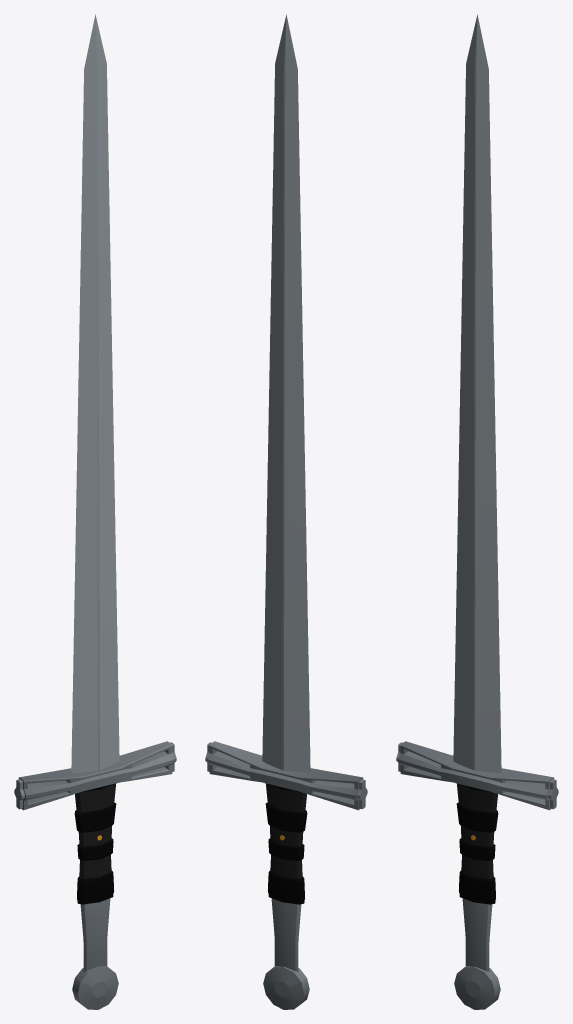
The model's file is SM_Sword11_GoticBastard _1.fbx.
3 views of the same model, side by side, from view 1: azimuth 30°, elevation 25°; view 2: azimuth 150°, elevation 25°; view 3: azimuth 330°, elevation 25° (orthographic).
Parts seen in each view (by area): view 1: Cube.003, Cylinder, Cube.004, Cylinder.003; view 2: Cube.003, Cylinder, Cube.004, Cylinder.003; view 3: Cube.003, Cylinder, Cube.004, Cylinder.003.
Boxes of the visible parts, x1,y1,x2,y2 form: Cube.003: (71,14,119,772); Cylinder: (74,783,116,971); Cube.004: (14,741,176,810); Cylinder.003: (72,966,118,1009); Cube.003: (262,14,310,772); Cylinder: (265,783,307,971); Cube.004: (205,741,367,810); Cylinder.003: (263,966,309,1009); Cube.003: (453,14,501,772); Cylinder: (456,783,498,971); Cube.004: (396,741,558,810); Cylinder.003: (454,966,500,1009).
Size of the model in its own units: 0.1979 by 1.21 by 0.037.
